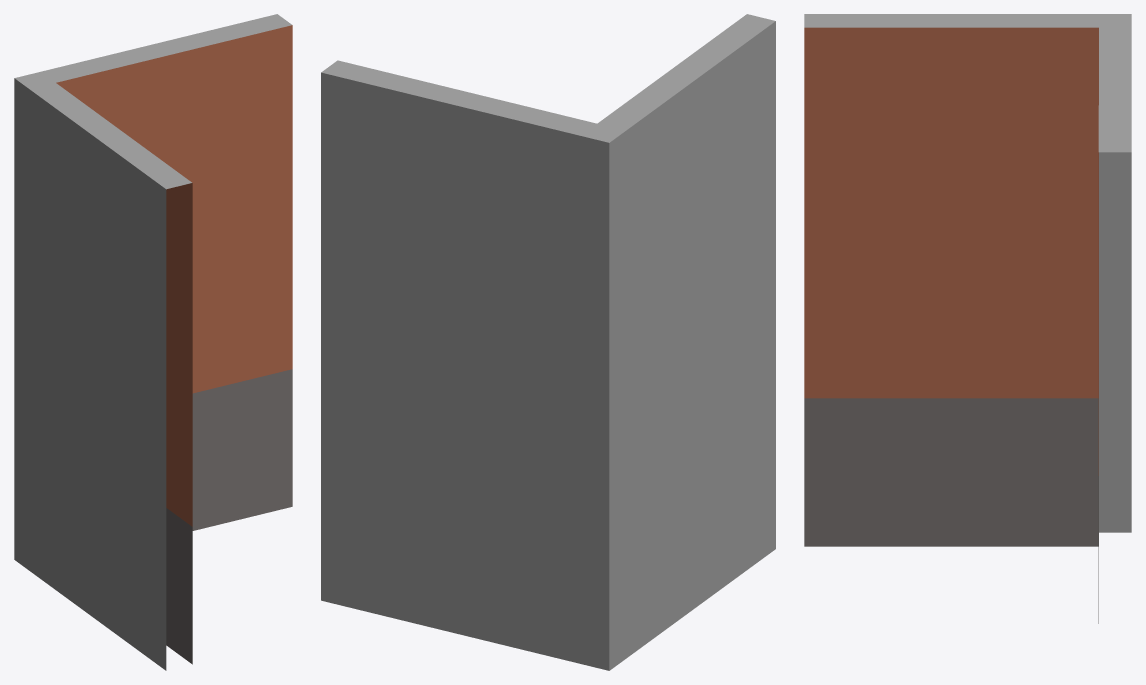
The model's file is SM_Outer_Wall_Corner_180.FBX.
3 renders of one model, left to right at view 1: azimuth 30°, elevation 25°; view 2: azimuth 150°, elevation 25°; view 3: azimuth 270°, elevation 25°, orthographic. The views are drawn at different scales.
Visible parts, largest first — view 1: SM_Outer_Wall_Corner_180; view 2: SM_Outer_Wall_Corner_180; view 3: SM_Outer_Wall_Corner_180.
Boxes of the visible parts, x1,y1,x2,y2 form: SM_Outer_Wall_Corner_180: [14, 14, 292, 670]; SM_Outer_Wall_Corner_180: [321, 14, 775, 670]; SM_Outer_Wall_Corner_180: [804, 14, 1131, 623].
Bounding box in the file's own units: 200 × 200 × 350.
